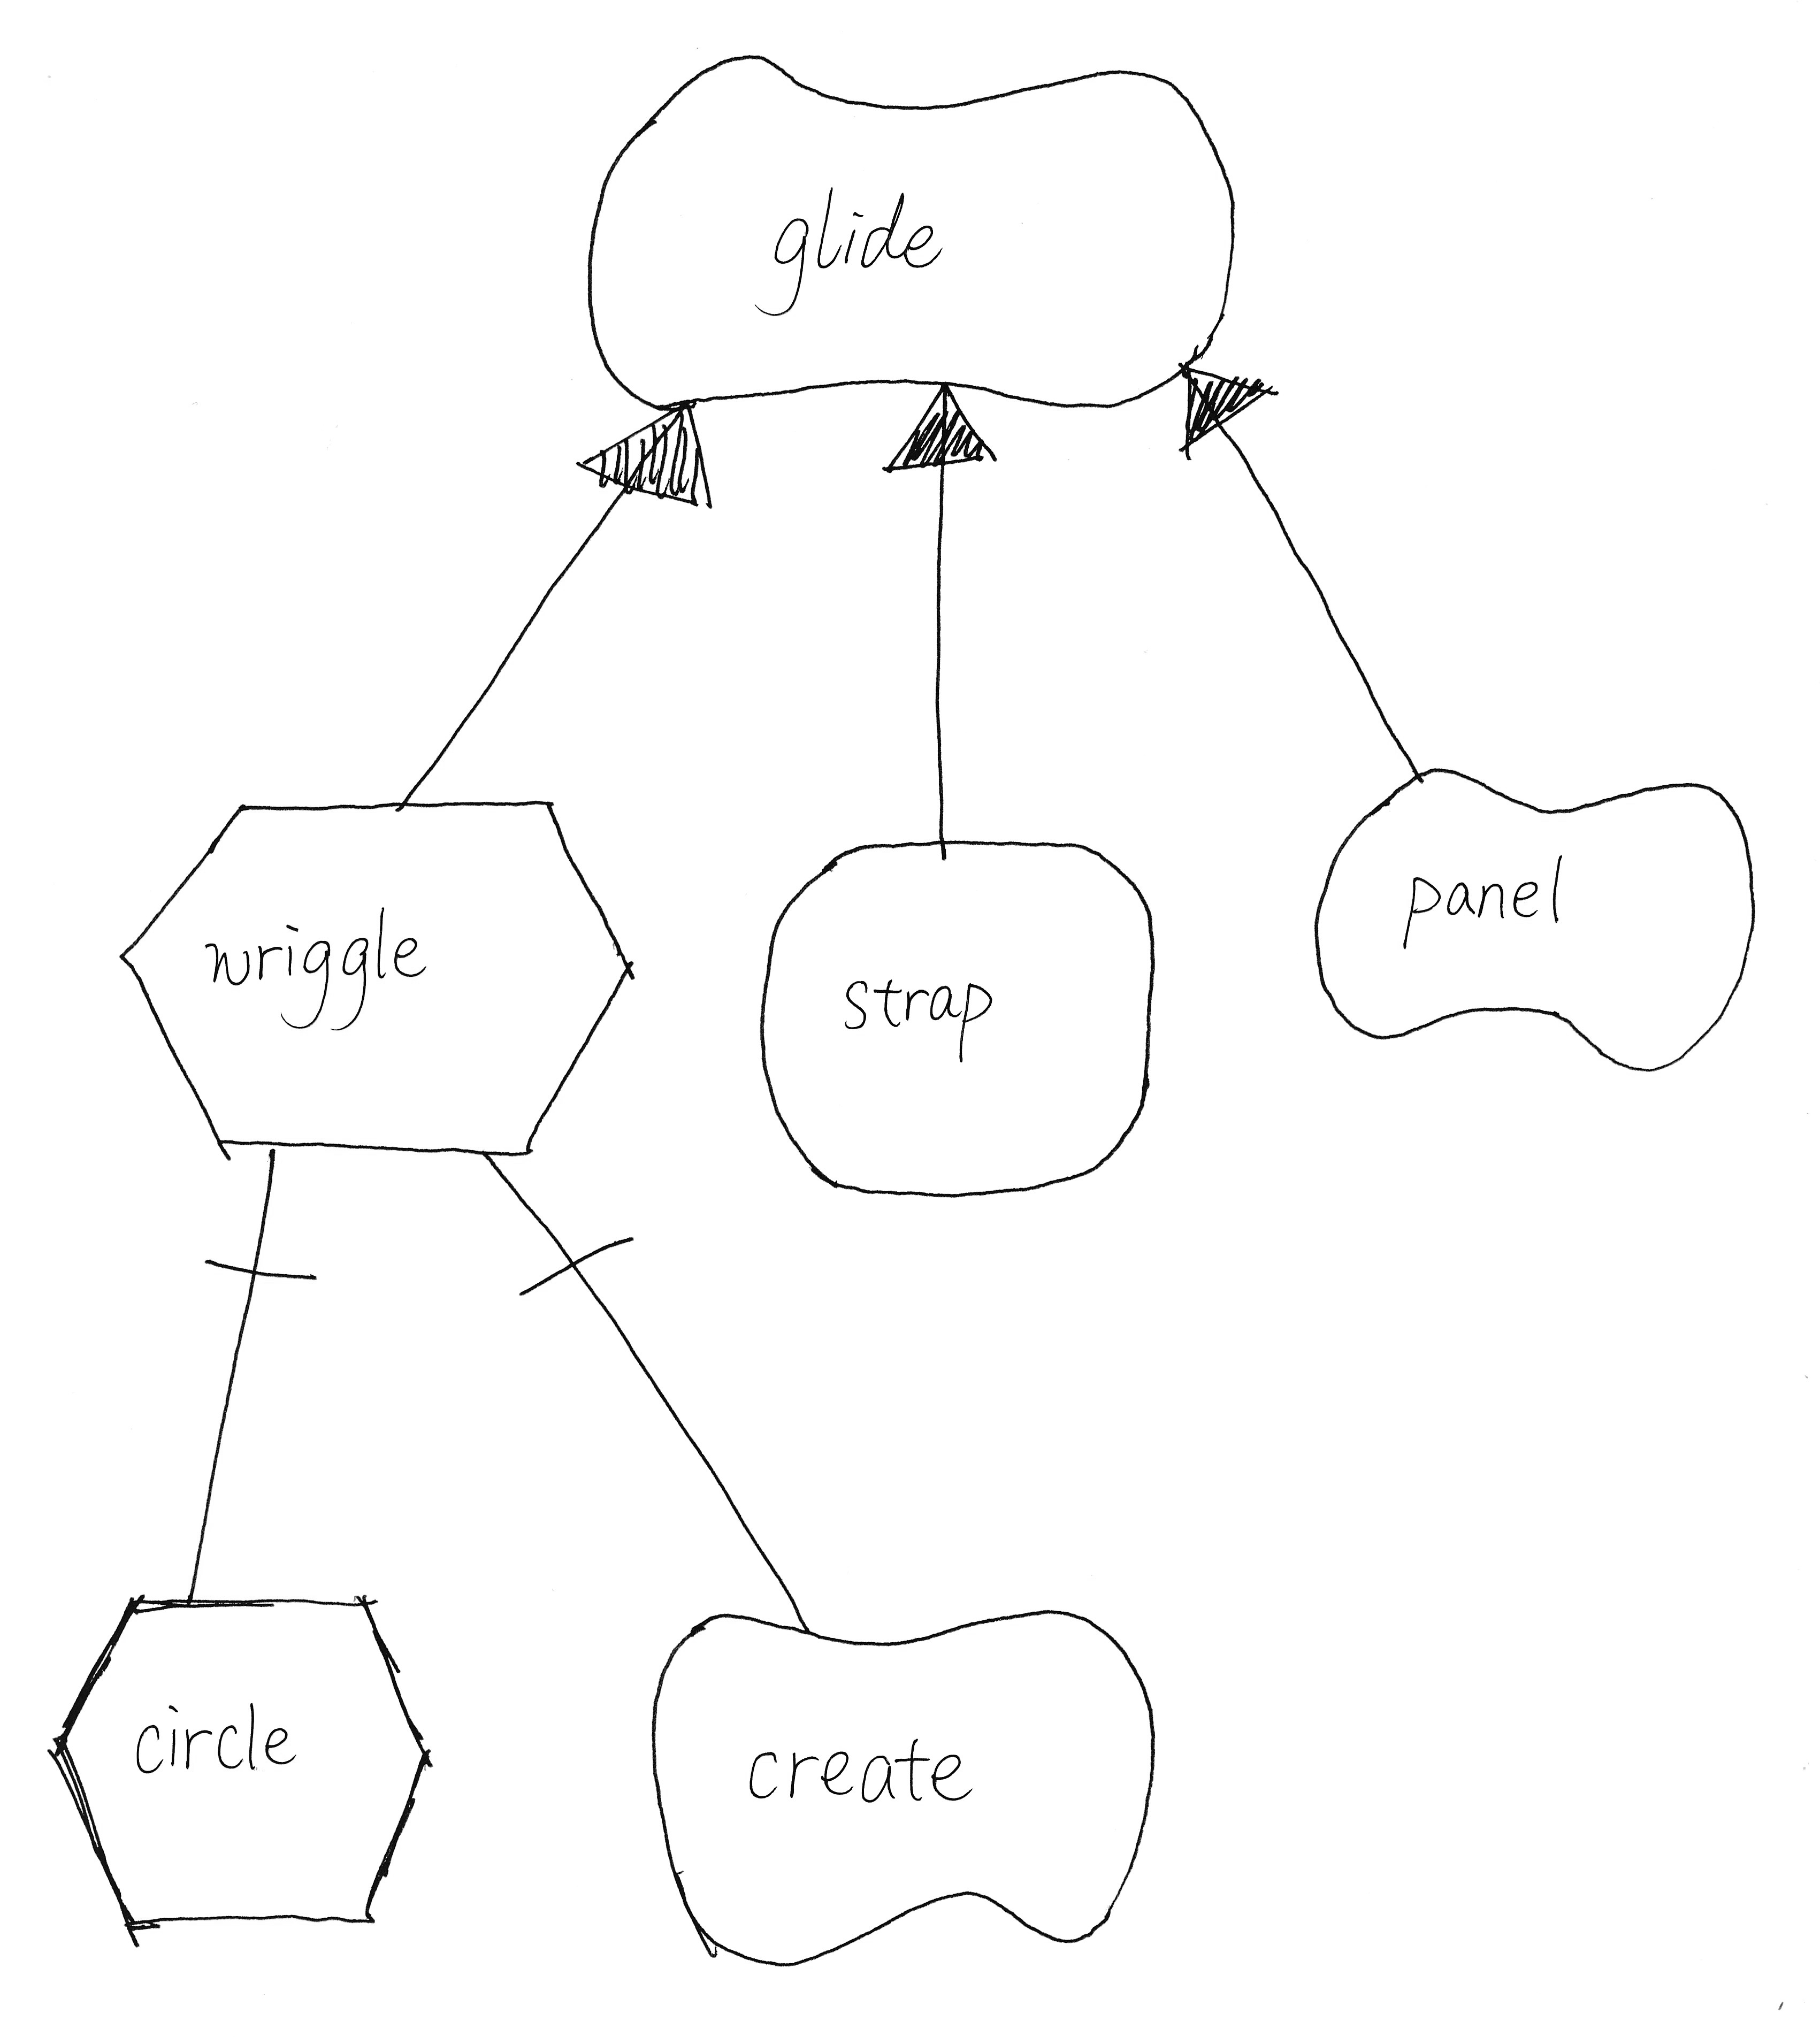and: (464, 1124, 654, 1314), (186, 1133, 341, 1310)
goal: (733, 804, 1188, 1213)
or: (541, 369, 733, 534), (870, 372, 1015, 507), (1161, 344, 1279, 465)
quality: (560, 25, 1261, 443), (613, 1584, 1198, 1976), (1293, 739, 1787, 1099)
task: (100, 776, 654, 1189), (21, 1566, 459, 1947)
